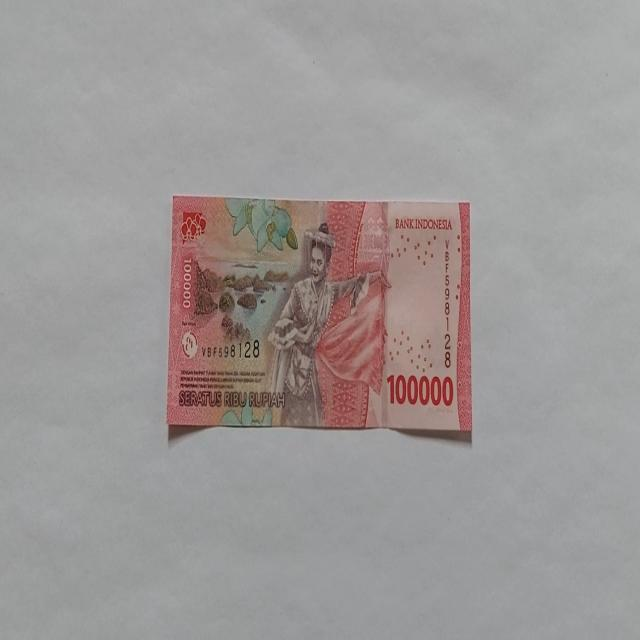seratus ribu rupiah: (166, 195, 472, 438), (264, 222, 371, 428)
